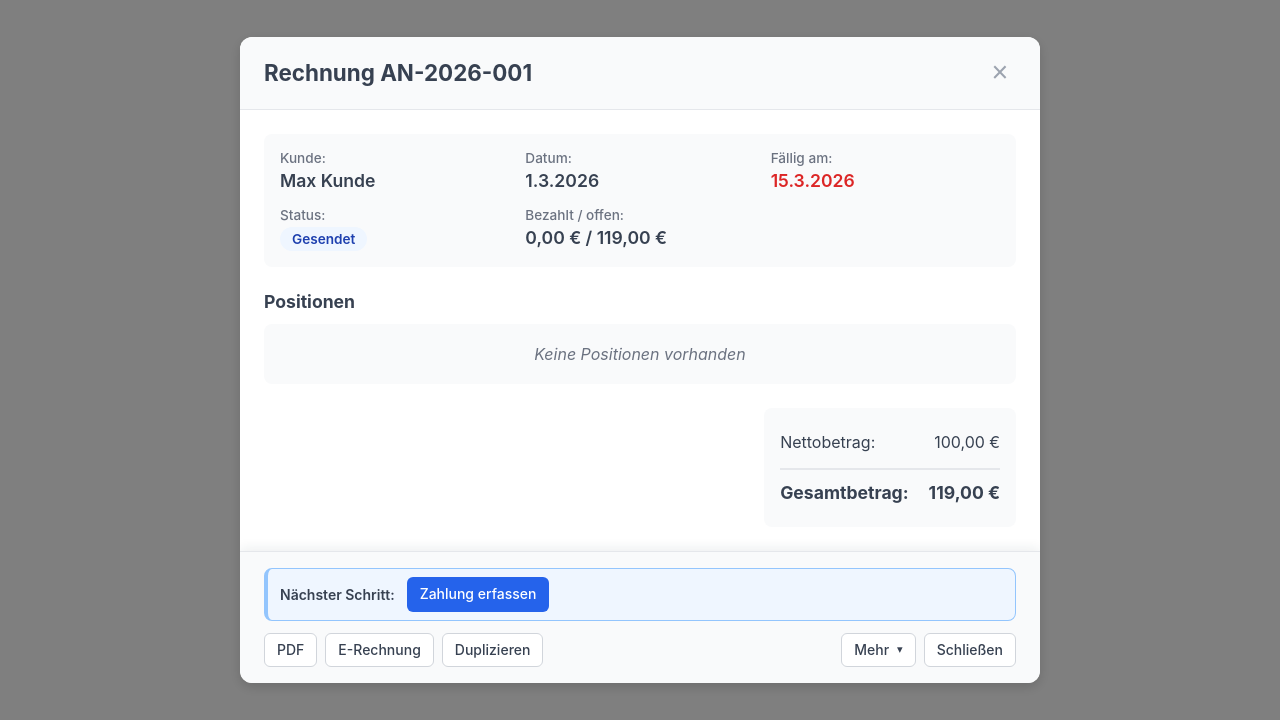
Test: DocumentViewModal — action bar of invoices › records the payment and shows the bar again
The width and height of the screenshot is (1280, 720).
Click the button "Zahlung erfassen": (478, 594) x1=407 y1=577 x2=550 y2=612
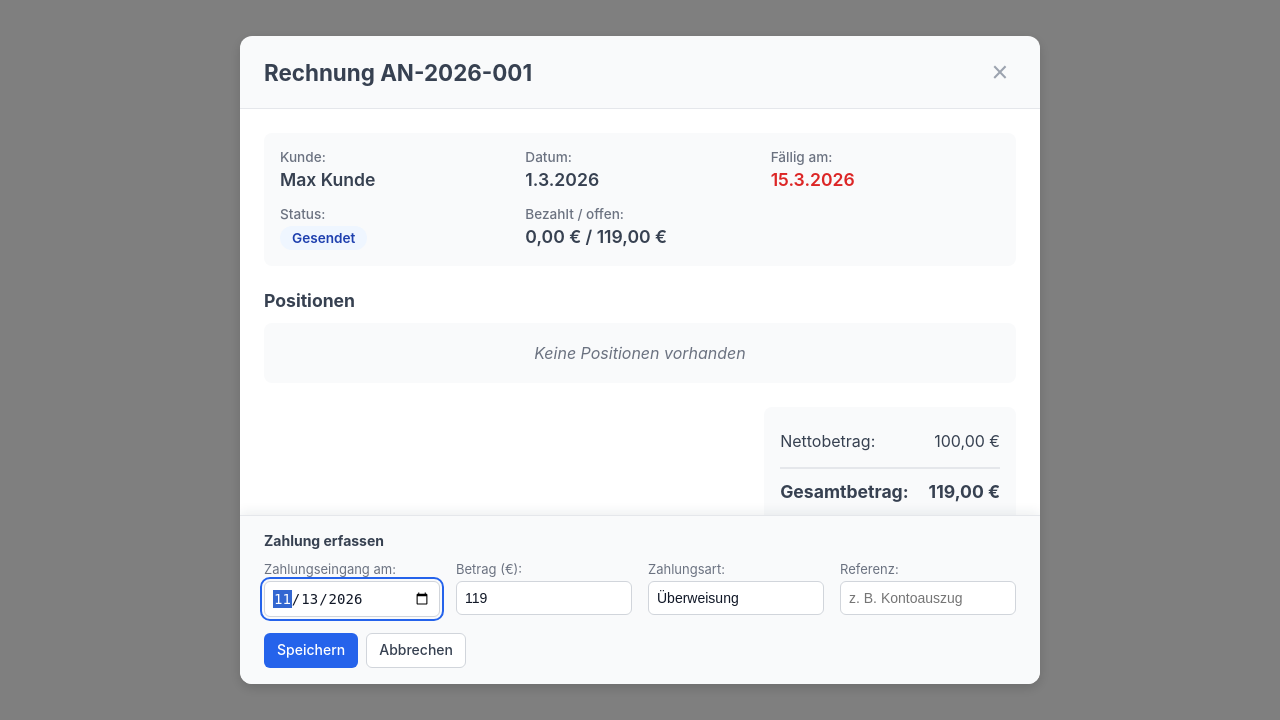
Click the button "Speichern": (311, 651) x1=264 y1=633 x2=358 y2=668
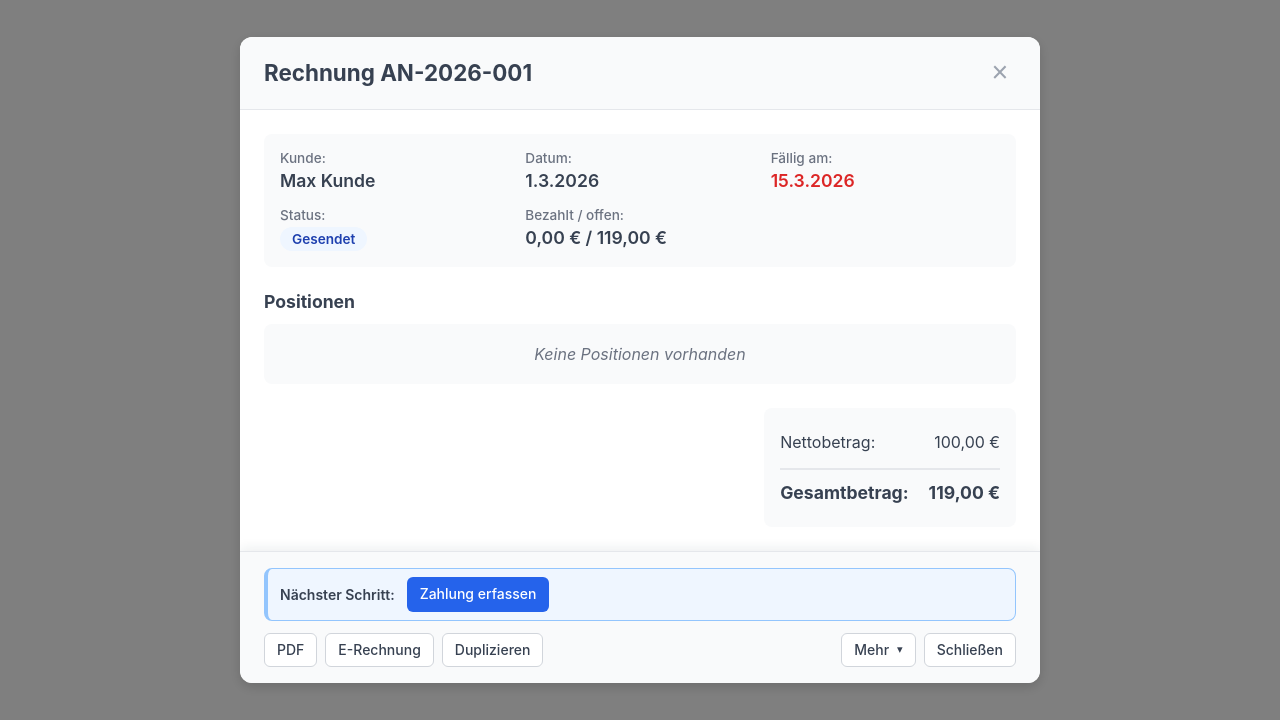
Expected: the element with class "action-bar" is shown, x1=264 y1=568 x2=1016 y2=667
